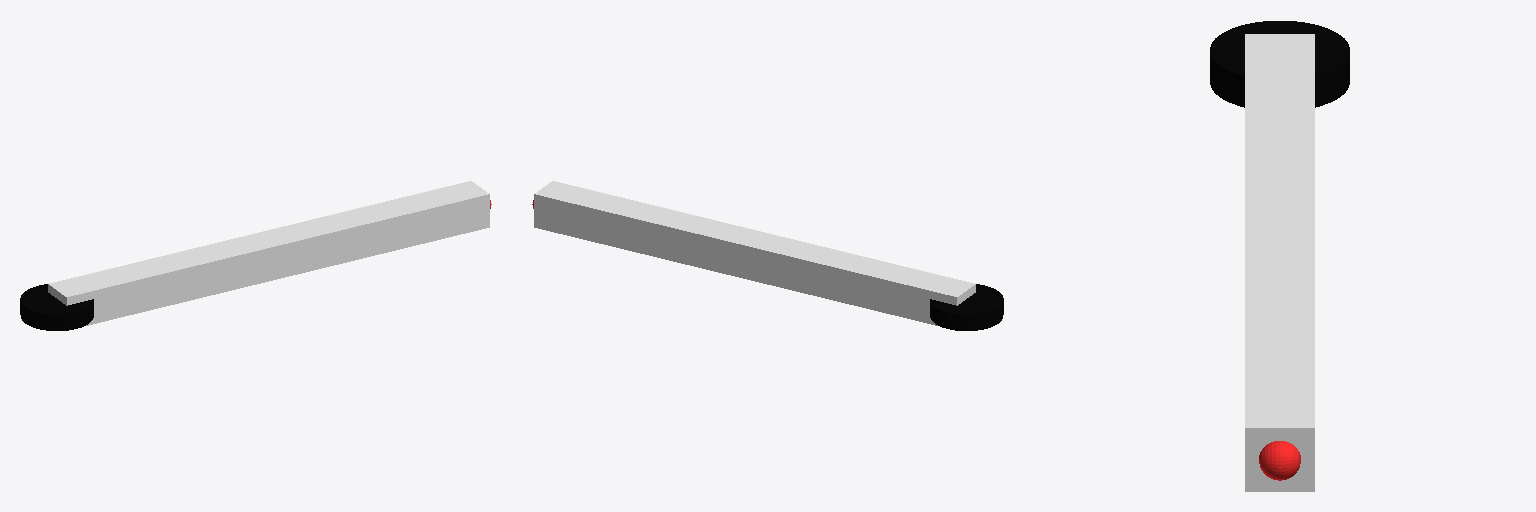
robot.urdf — example_dof4:
<?xml version="1.0" encoding="utf-8"?>
<!--
  two_axis_arm.urdf — AUTO-GENERATED by urdf_generator.py
  Source: /arm_config JSON (ROBOT_UI/example.json style)
  DOF: 4  arm_name: example
-->
<robot name="example_dof4">

  <material name="arm_white">
    <color rgba="0.95 0.95 0.95 1" />
  </material>
  <material name="arm_motor">
    <color rgba="0.05 0.05 0.05 1" />
  </material>
  <material name="tip_red">
    <color rgba="1.0 0.2 0.2 1" />
  </material>

  <!-- Base link (anchored to world; ManiSkill fix_root_link=True freezes it) -->
  <link name="base_link">
    <inertial>
      <origin xyz="0 0 0" rpy="0 0 0"/>
      <mass value="0.001"/>
      <inertia ixx="1e-6" ixy="0" ixz="0" iyy="1e-6" iyz="0" izz="1e-6"/>
    </inertial>
    <visual>
      <origin xyz="0 0 0" rpy="0 0 0"/>
      <geometry><cylinder radius="0.04" length="0.02"/></geometry>
      <material name="arm_motor"/>
    </visual>
  </link>
  <link name="link_1">
    <inertial>
      <origin xyz="0 0 0" rpy="0 0 0"/>
      <mass value="0.215"/>
      <inertia ixx="0.0005805" ixy="0" ixz="0" iyy="0.0005805" iyz="0" izz="0.0001"/>
    </inertial>
    <visual>
      <origin xyz="0.09 0 0.0" rpy="1.5708 0 0.0"/>
      <geometry><box size="0.18 0.04 0.04"/></geometry>
      <material name="arm_white"/>
    </visual>
    <collision>
      <origin xyz="0.09 0 0.0" rpy="1.5708 0 0.0"/>
      <geometry><box size="0.18 0.04 0.04"/></geometry>
    </collision>
  </link>
  <link name="link_2">
    <inertial>
      <origin xyz="0.075 0 0" rpy="0 0 0"/>
      <mass value="0.16499999999999998"/>
      <inertia ixx="0.00030937499999999997" ixy="0" ixz="0" iyy="0.00030937499999999997" iyz="0" izz="0.0001"/>
    </inertial>
    <visual>
      <origin xyz="0.075 0 0.0" rpy="0.0 0 0.0"/>
      <geometry><box size="0.15 0.04 0.04"/></geometry>
      <material name="arm_white"/>
    </visual>
    <collision>
      <origin xyz="0.075 0 0.0" rpy="0.0 0 0.0"/>
      <geometry><box size="0.15 0.04 0.04"/></geometry>
    </collision>
  </link>
  <link name="link_3">
    <inertial>
      <origin xyz="0.05 0 0" rpy="0 0 0"/>
      <mass value="0.115"/>
      <inertia ixx="9.583333333333335e-05" ixy="0" ixz="0" iyy="9.583333333333335e-05" iyz="0" izz="0.0001"/>
    </inertial>
    <visual>
      <origin xyz="0.05 0 0.0" rpy="0.0 0 0.0"/>
      <geometry><box size="0.1 0.04 0.04"/></geometry>
      <material name="arm_white"/>
    </visual>
    <collision>
      <origin xyz="0.05 0 0.0" rpy="0.0 0 0.0"/>
      <geometry><box size="0.1 0.04 0.04"/></geometry>
    </collision>
  </link>
  <link name="link_4">
    <inertial>
      <origin xyz="0.05 0 0" rpy="0 0 0"/>
      <mass value="0.115"/>
      <inertia ixx="9.583333333333335e-05" ixy="0" ixz="0" iyy="9.583333333333335e-05" iyz="0" izz="0.0001"/>
    </inertial>
    <visual>
      <origin xyz="0.05 0 0.0" rpy="0.0 0 0.0"/>
      <geometry><box size="0.1 0.04 0.04"/></geometry>
      <material name="arm_white"/>
    </visual>
    <collision>
      <origin xyz="0.05 0 0.0" rpy="0.0 0 0.0"/>
      <geometry><box size="0.1 0.04 0.04"/></geometry>
    </collision>
  </link>
  <joint name="joint_1" type="revolute">
    <parent link="base_link"/>
    <child  link="link_1"/>
    <origin xyz="0.0 0 0.0" rpy="0.0 0 0.0"/>
    <axis  xyz="0 0 1"/>
    <limit lower="-3.14159" upper="3.14159" effort="100" velocity="3.0"/>
  </joint>
  <joint name="joint_2" type="revolute">
    <parent link="link_1"/>
    <child  link="link_2"/>
    <origin xyz="0.18 0 0.0" rpy="1.5708 0 0.0"/>
    <axis  xyz="1 0 0"/>
    <limit lower="-3.14159" upper="3.14159" effort="100" velocity="3.0"/>
  </joint>
  <joint name="joint_3" type="revolute">
    <parent link="link_2"/>
    <child  link="link_3"/>
    <origin xyz="0.15 0 0.0" rpy="0.0 0 0.0"/>
    <axis  xyz="1 0 0"/>
    <limit lower="-3.14159" upper="3.14159" effort="100" velocity="3.0"/>
  </joint>
  <joint name="joint_4" type="revolute">
    <parent link="link_3"/>
    <child  link="link_4"/>
    <origin xyz="0.1 0 0.0" rpy="0.0 0 0.0"/>
    <axis  xyz="1 0 0"/>
    <limit lower="-3.14159" upper="3.14159" effort="100" velocity="3.0"/>
  </joint>

  <!-- End-effector tip (fixed) -->
  <joint name="wrist_tip_joint" type="fixed">
    <parent link="link_4"/>
    <child link="wrist_tip"/>
    <origin xyz="0.1 0 0" rpy="0 0 0"/>
  </joint>
  <link name="wrist_tip">
    <inertial>
      <origin xyz="0 0 0" rpy="0 0 0"/>
      <mass value="0.001"/>
      <inertia ixx="1e-6" ixy="0" ixz="0" iyy="1e-6" iyz="0" izz="1e-6"/>
    </inertial>
    <visual>
      <origin xyz="0 0 0" rpy="0 0 0"/>
      <geometry><sphere radius="0.012"/></geometry>
      <material name="tip_red"/>
    </visual>
  </link>
</robot>

--- Facts derived from the render (not from the file) ---
Views: 3 orthographic renders of the robot side by side, from view 1: azimuth 30°, elevation 25°; view 2: azimuth 150°, elevation 25°; view 3: azimuth 270°, elevation 25°.
Robot: example_dof4 — 6 links, 5 joints (4 revolute, 1 fixed); root link base_link; default pose: all joints at 0.
Visible links, largest first — view 1: link_1, link_2, link_3, link_4, base_link; view 2: link_1, link_2, link_3, link_4, base_link; view 3: link_1, link_4, link_2, base_link, link_3, wrist_tip.
Link boxes in pixels (x1=…): link_1: x1=48, y1=249, x2=209, y2=325; link_2: x1=193, y1=220, x2=329, y2=295; link_3: x1=312, y1=200, x2=409, y2=265; link_4: x1=392, y1=181, x2=489, y2=246; base_link: x1=20, y1=284, x2=93, y2=330; link_1: x1=814, y1=249, x2=975, y2=325; link_2: x1=694, y1=220, x2=830, y2=295; link_3: x1=614, y1=200, x2=711, y2=265; link_4: x1=534, y1=181, x2=631, y2=246; base_link: x1=930, y1=284, x2=1003, y2=330; link_1: x1=1245, y1=34, x2=1314, y2=167; link_4: x1=1245, y1=354, x2=1314, y2=491; link_2: x1=1245, y1=168, x2=1314, y2=278; base_link: x1=1210, y1=21, x2=1349, y2=107; link_3: x1=1245, y1=279, x2=1314, y2=353; wrist_tip: x1=1259, y1=441, x2=1300, y2=480.
Size in the robot's own frame: 0.582 by 0.08 by 0.04 metres.
Geometry: primitives only (box / cylinder / sphere), no mesh files.
